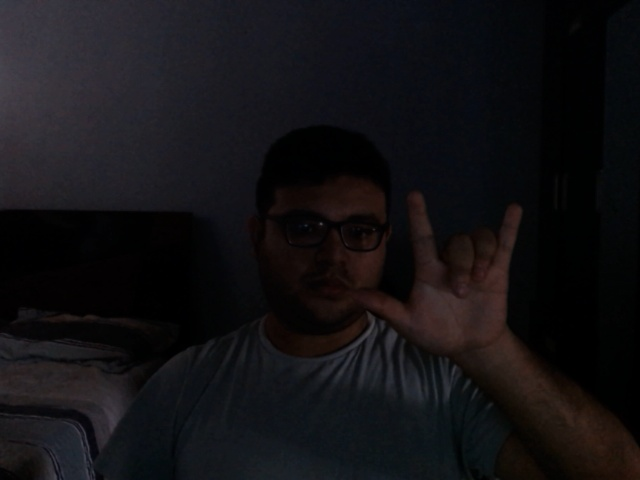I love you: (350, 187, 525, 365)
